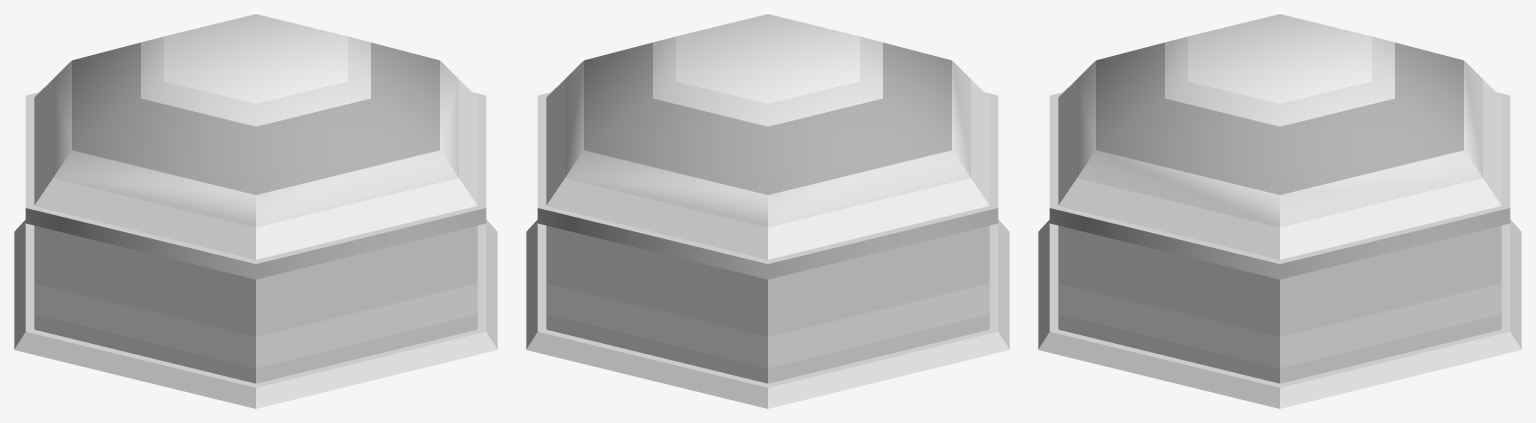
The model's file is mvd_airfield.glb.
The picture shows the model from 3 angles, left to right: view 1: azimuth 30°, elevation 25°; view 2: azimuth 150°, elevation 25°; view 3: azimuth 270°, elevation 25°; orthographic projection.
Parts seen in each view (by area): view 1: Body; view 2: Body; view 3: Body.
Boxes of the visible parts, x1=… form: Body: x1=14, y1=14, x2=497, y2=408; Body: x1=526, y1=14, x2=1009, y2=408; Body: x1=1038, y1=14, x2=1521, y2=408.
Size of the model in its own units: 18 by 8.25 by 15.59.
Materials: 2 (1 with a texture image).
